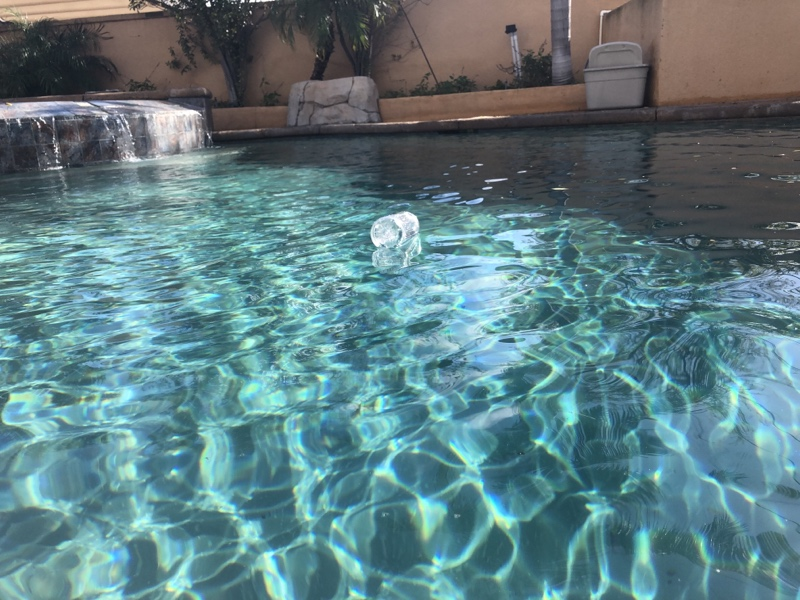Plastic Bottle: (368, 212, 424, 248)
